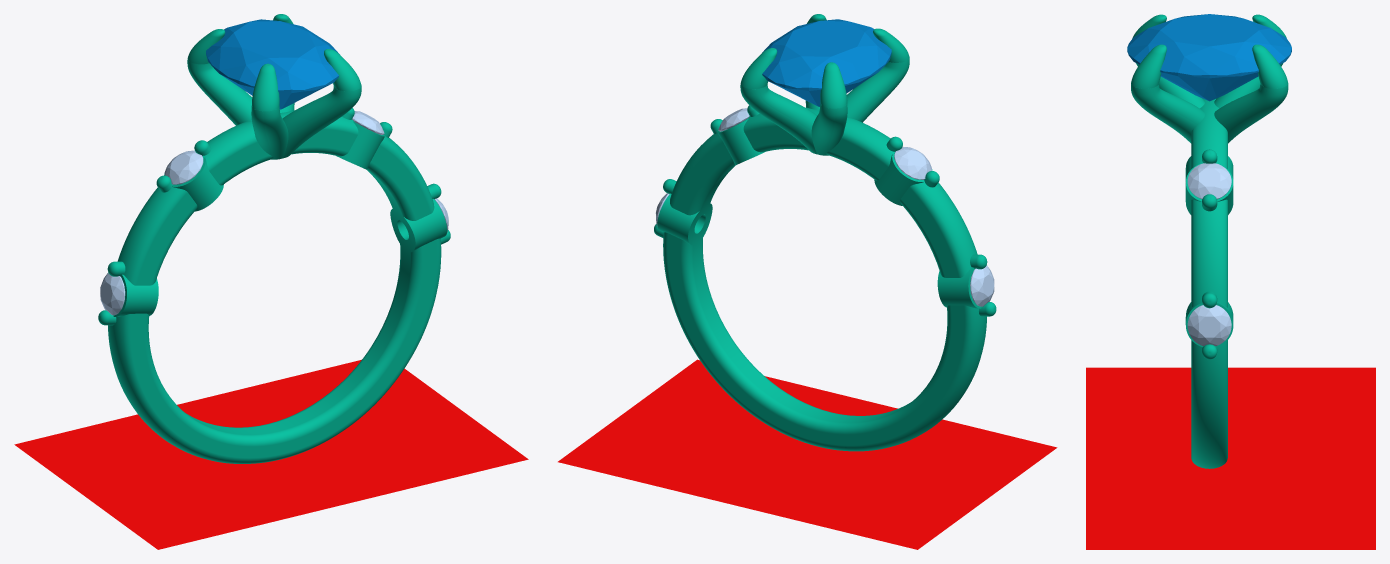
3 renders of one model, left to right at view 1: azimuth 30°, elevation 25°; view 2: azimuth 150°, elevation 25°; view 3: azimuth 270°, elevation 25°, orthographic. The views are drawn at different scales.
Visible parts, largest first — view 1: RING.JTC.SRO24(front).3dm, Diamond_Oval, Diamond_Round (×2); view 2: RING.JTC.SRO24(front).3dm, Diamond_Oval, Diamond_Round (×2); view 3: RING.JTC.SRO24(front).3dm, Diamond_Oval, Diamond_Round (×2).
Part boxes in pixels (bbox=[...]): RING.JTC.SRO24(front).3dm: bbox=[14, 14, 528, 549]; Diamond_Oval: bbox=[206, 19, 339, 109]; Diamond_Round (×2): bbox=[100, 150, 203, 315]; RING.JTC.SRO24(front).3dm: bbox=[558, 14, 1057, 549]; Diamond_Oval: bbox=[762, 19, 891, 106]; Diamond_Round (×2): bbox=[894, 147, 994, 306]; RING.JTC.SRO24(front).3dm: bbox=[1086, 14, 1375, 549]; Diamond_Oval: bbox=[1127, 14, 1291, 101]; Diamond_Round (×2): bbox=[1187, 163, 1231, 346].
Size of what is drawn, in the model's own units: 2.7 by 2.93 by 1.81.
